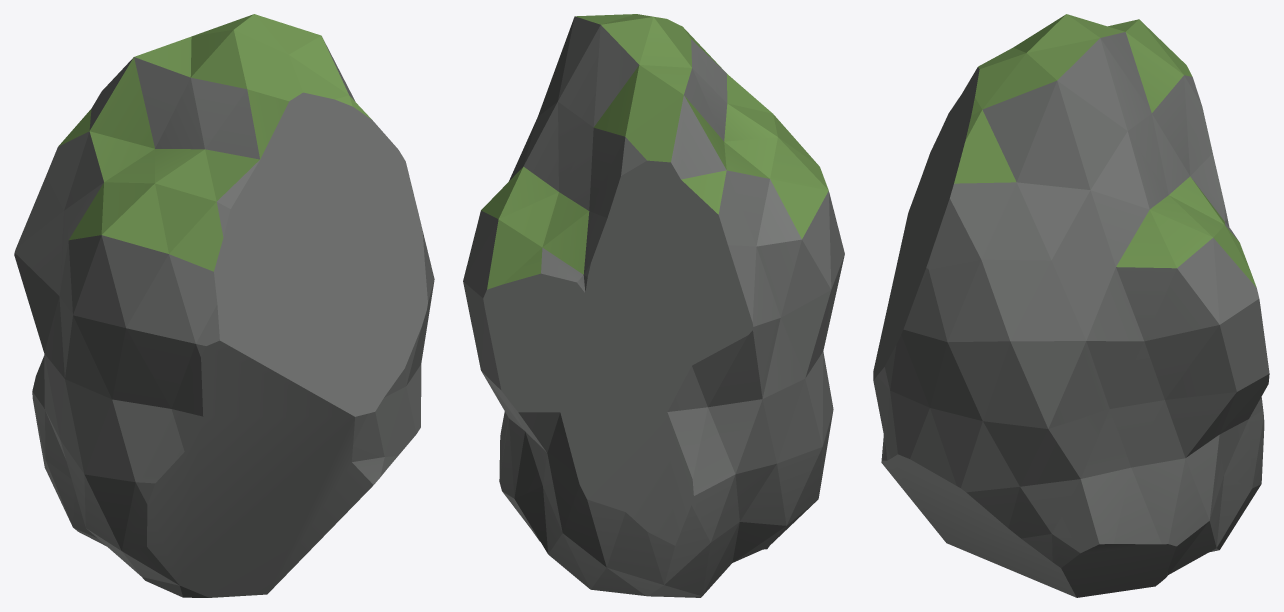
Rendered from obj_roca_grande.glb.
The picture shows the model from 3 angles, left to right: view 1: azimuth 30°, elevation 25°; view 2: azimuth 150°, elevation 25°; view 3: azimuth 270°, elevation 25°; orthographic projection. The views are drawn at different scales.
Parts seen in each view (by area): view 1: propforge-libre-roca_grande; view 2: propforge-libre-roca_grande; view 3: propforge-libre-roca_grande.
Boxes of the visible parts, x1,y1,x2,y2 form: propforge-libre-roca_grande: (14, 14, 434, 597); propforge-libre-roca_grande: (463, 14, 844, 597); propforge-libre-roca_grande: (873, 14, 1269, 597).
Bounding box in the file's own units: 0.9721 × 1.44 × 0.9562.
